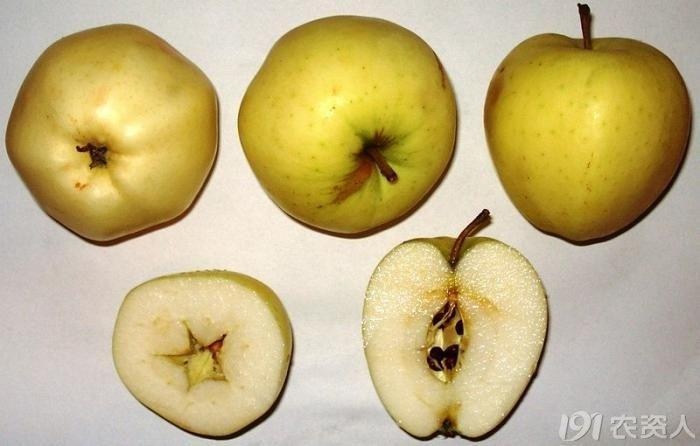apple: (235, 11, 453, 236), (483, 15, 690, 249), (4, 19, 218, 245), (358, 227, 546, 441), (109, 269, 296, 436)
